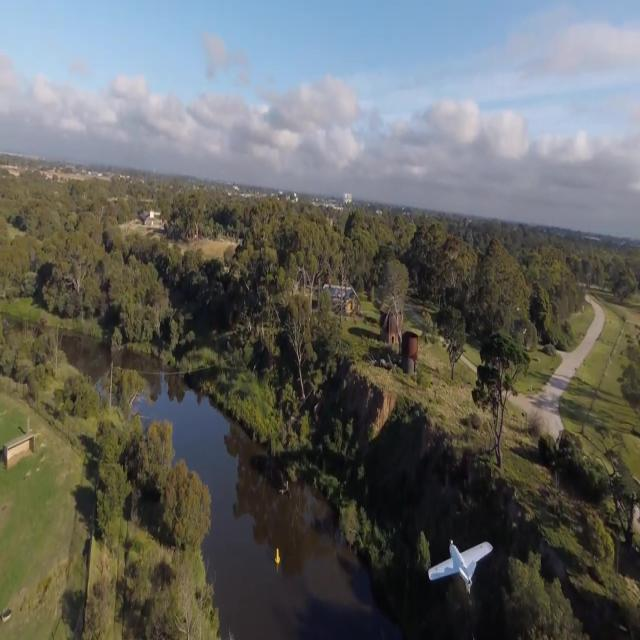iha: (453, 539, 455, 595)
